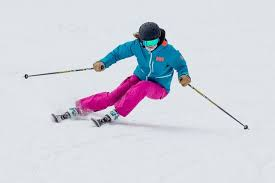skier: (21, 17, 253, 135)
